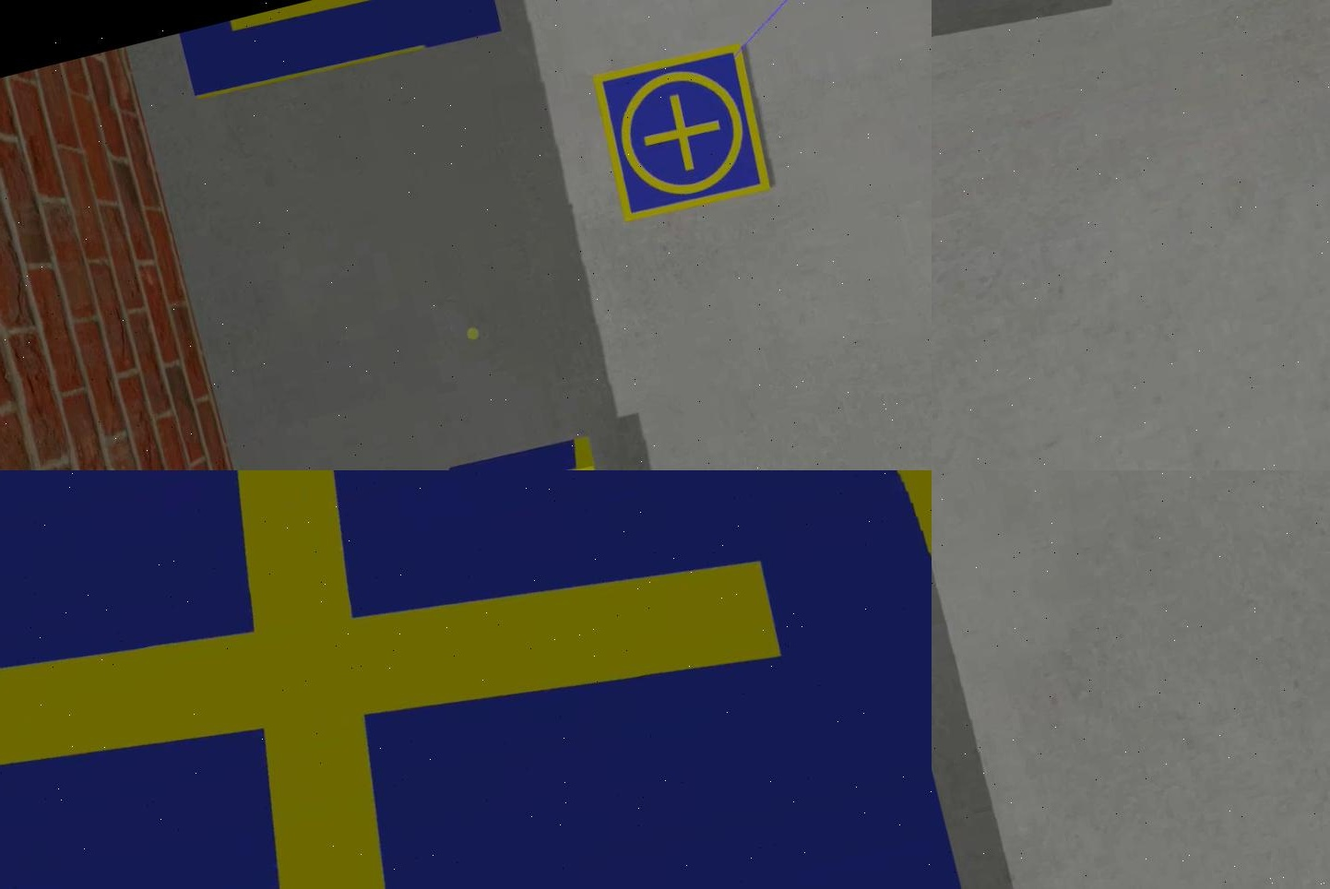large_base: (180, 1, 505, 112)
small_base: (0, 471, 931, 889), (584, 39, 778, 232)
